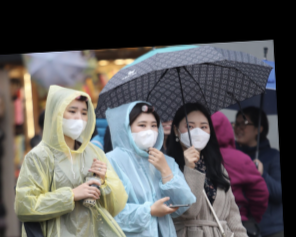with_mask: (60, 102, 90, 141), (177, 117, 211, 151), (130, 117, 160, 150)
without_mask: (230, 116, 254, 143)
